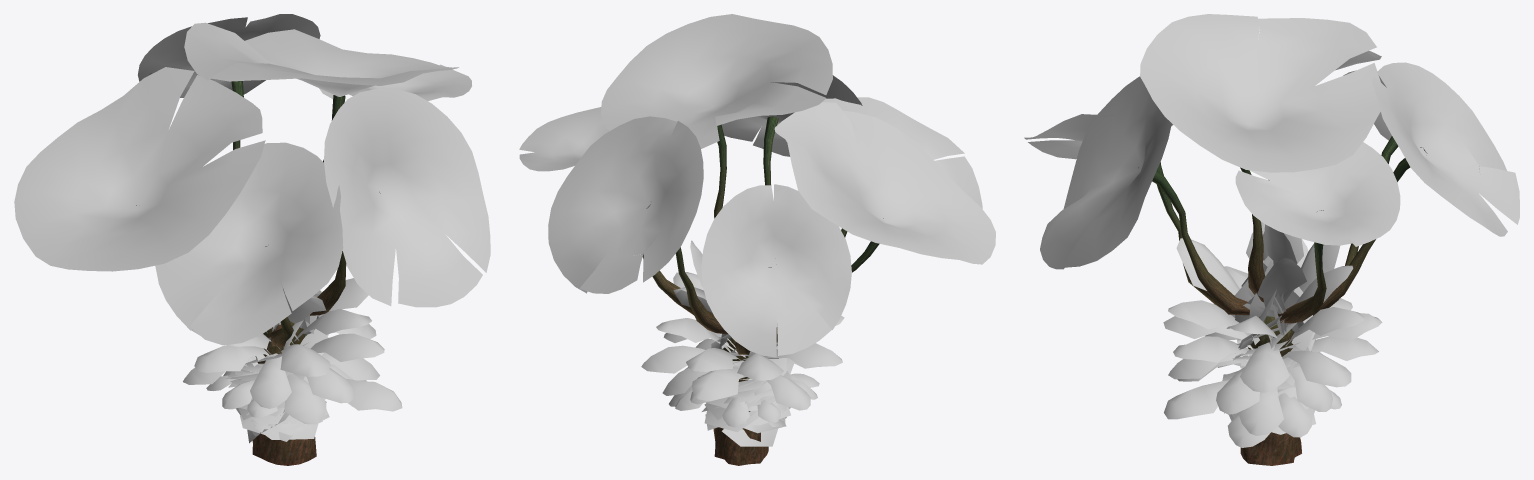
The model's file is Plant2_2_L1.fbx.
3 views of the same model, side by side, from view 1: azimuth 30°, elevation 25°; view 2: azimuth 150°, elevation 25°; view 3: azimuth 270°, elevation 25° (orthographic). The views are drawn at different scales.
Visible parts, largest first — view 1: polySurface37; view 2: polySurface37; view 3: polySurface37.
Part boxes in pixels (x1,y1,x2,y2): polySurface37: (14, 14, 490, 465); polySurface37: (519, 14, 995, 465); polySurface37: (1024, 14, 1519, 465).
Size of the model in its own units: 379 by 331 by 358.
